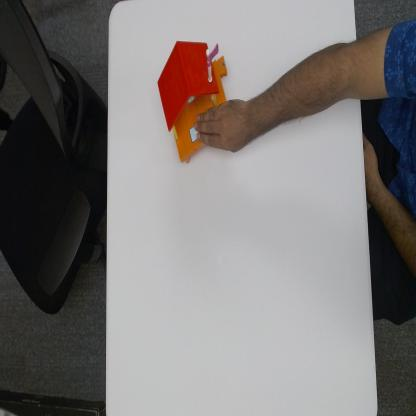Arm: (248, 41, 363, 146)
Hand: (197, 97, 248, 152)
House: (157, 37, 231, 156)
